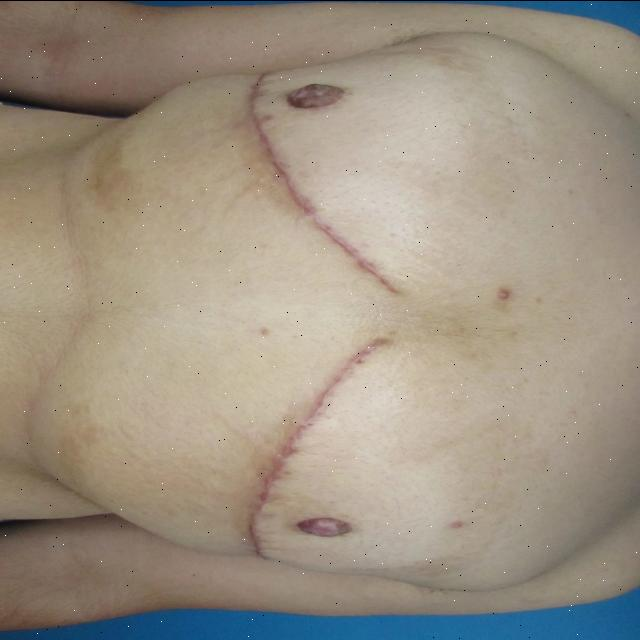Seno herido: (220, 51, 470, 300), (212, 328, 462, 576)
